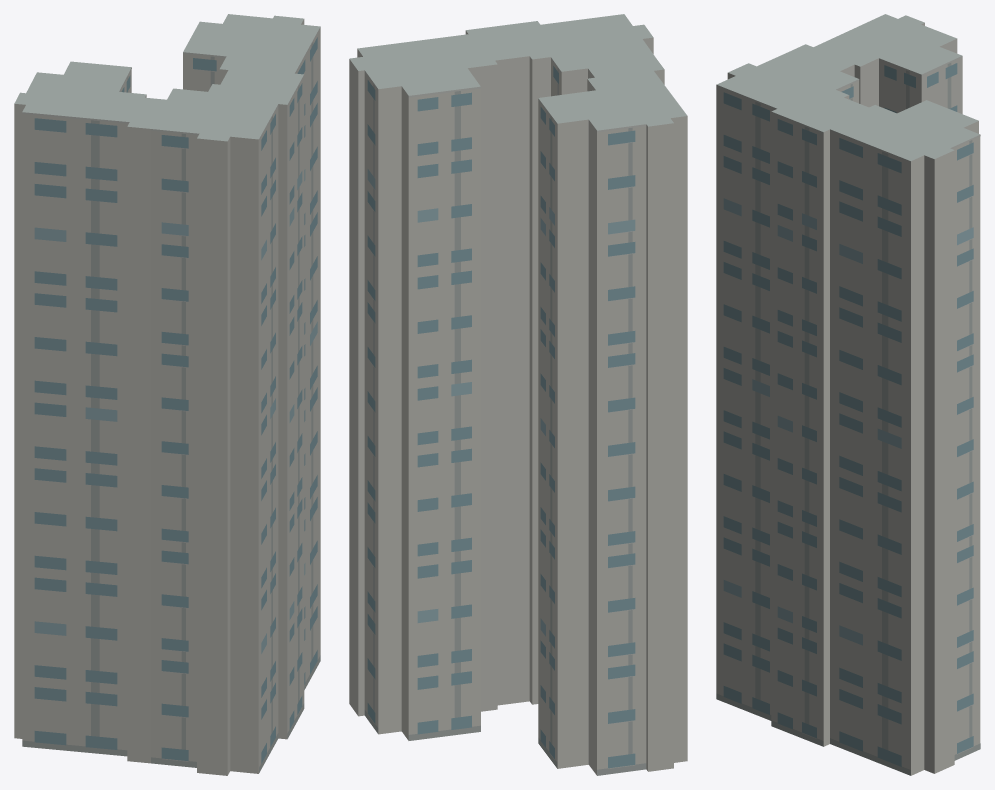
Rendered from residential-d8ed7912-e22f-45f3-a4c0-f8f636cb19c0.glb.
The picture shows the model from 3 angles, left to right: view 1: azimuth 30°, elevation 25°; view 2: azimuth 150°, elevation 25°; view 3: azimuth 270°, elevation 25°; orthographic projection. The views are drawn at different scales.
Visible parts, largest first — view 1: residential-d8ed7912-e22f-45f3-a4c0-f8f636cb19c0.tmp; view 2: residential-d8ed7912-e22f-45f3-a4c0-f8f636cb19c0.tmp; view 3: residential-d8ed7912-e22f-45f3-a4c0-f8f636cb19c0.tmp.
Boxes of the visible parts, box(x1,y1,x2,y2) form: residential-d8ed7912-e22f-45f3-a4c0-f8f636cb19c0.tmp: box(14, 14, 320, 775); residential-d8ed7912-e22f-45f3-a4c0-f8f636cb19c0.tmp: box(349, 14, 687, 775); residential-d8ed7912-e22f-45f3-a4c0-f8f636cb19c0.tmp: box(716, 14, 980, 775).
Bounding box in the file's own units: 47.29 × 92 × 35.82.
